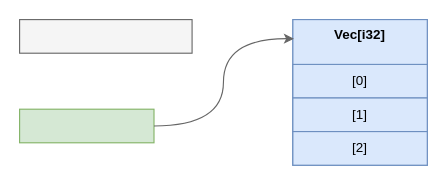
Some shapes in this 447 by 185 pixel diagram are drawn without their labels. Each missing label, with the centre of its shape:
"myVar" goes at (x=86, y=125).
"Rust memory layout" goes at (x=105, y=35).
